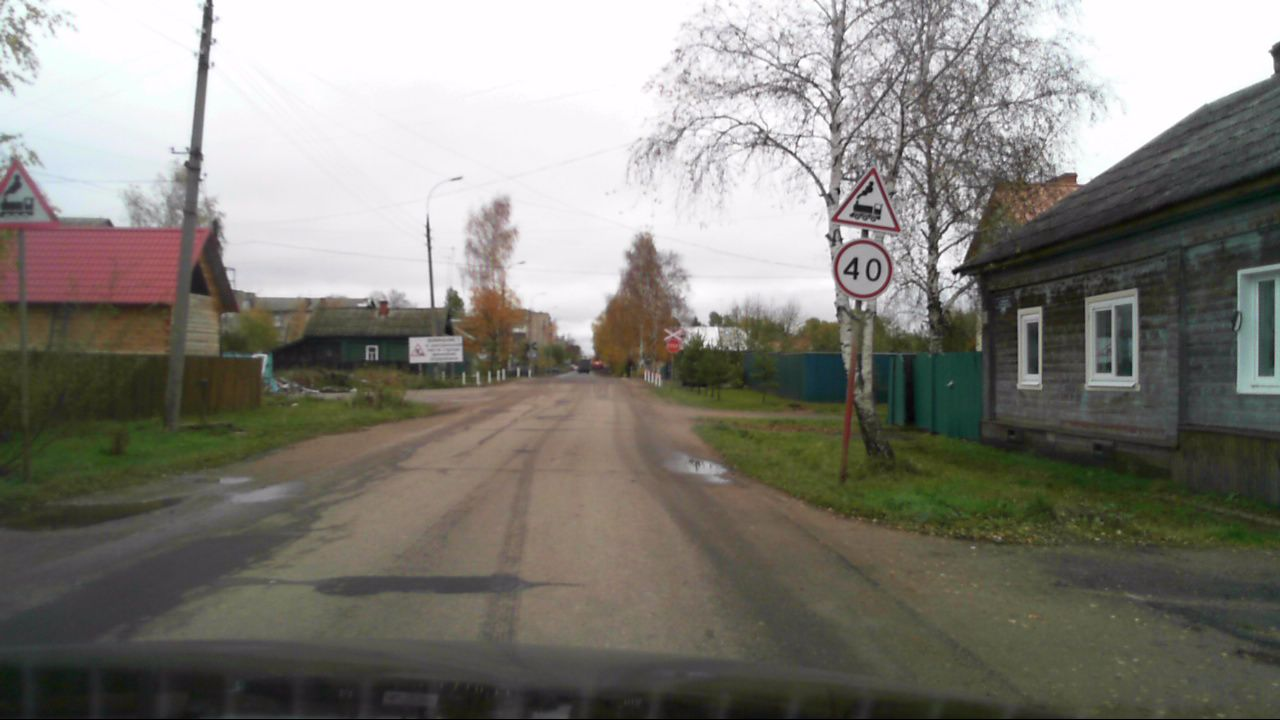speed_warning_40: (834, 239, 895, 302)
